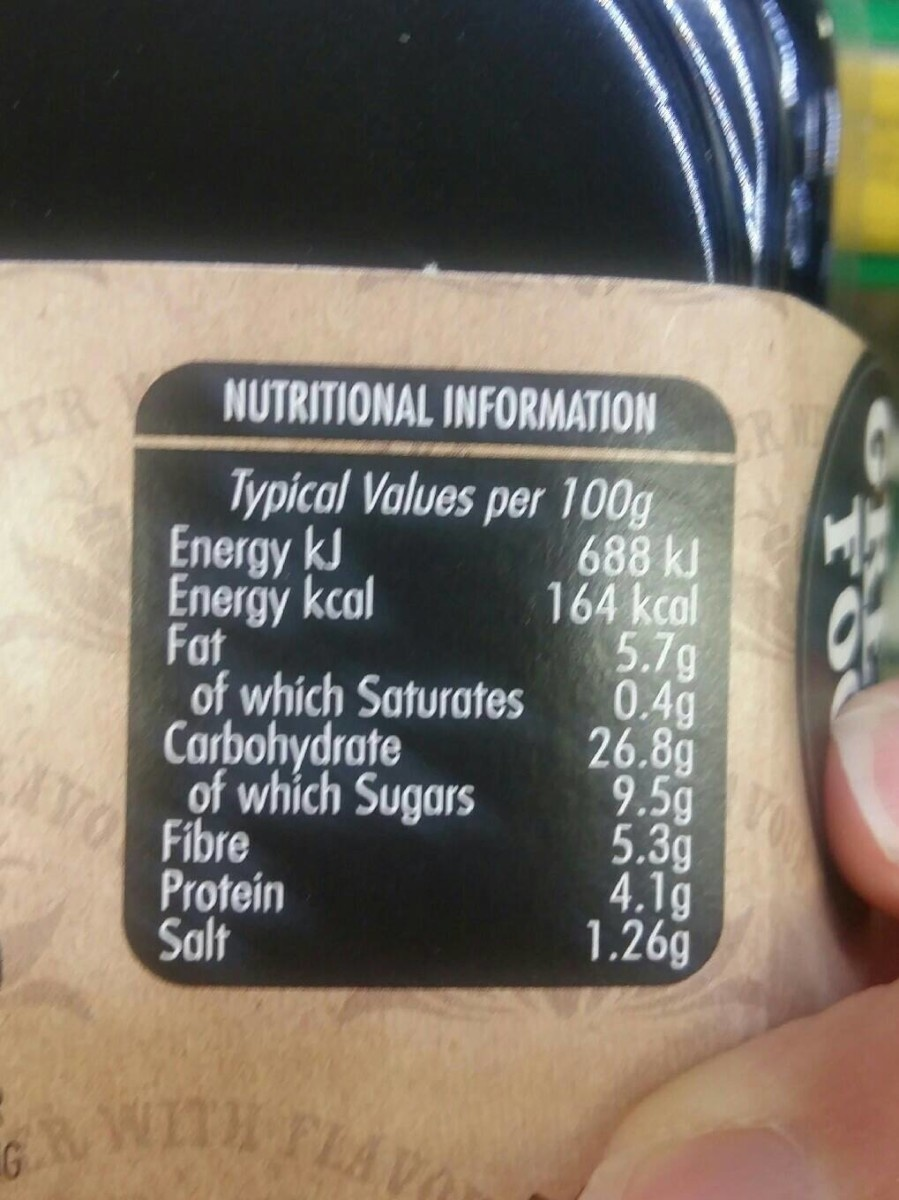column: (149, 523, 524, 976), (545, 531, 702, 971)
table: (116, 357, 743, 997)
